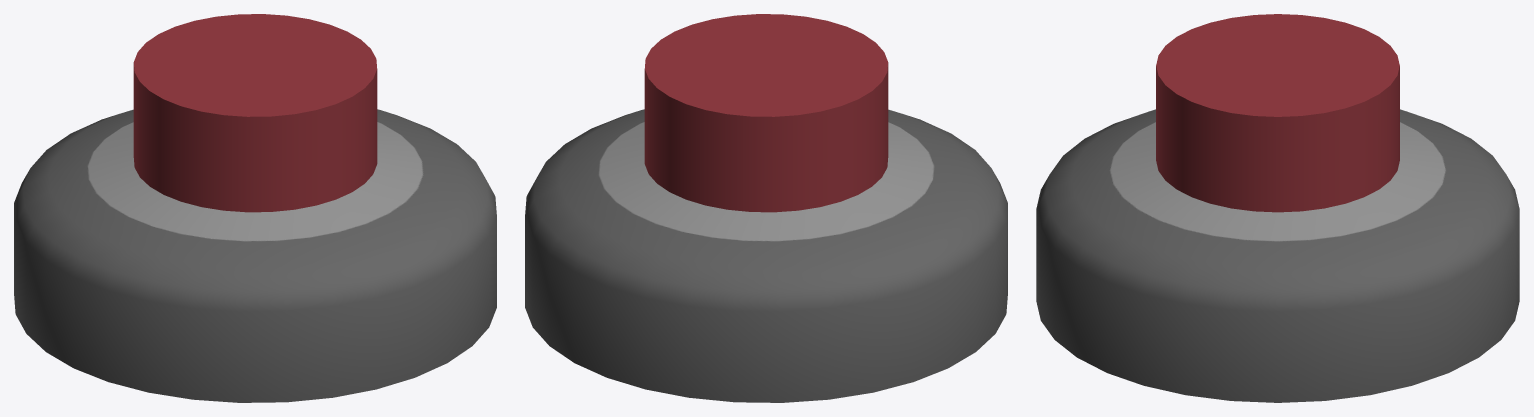
File: bouton-entier.fbx
3 renders of one model, left to right at view 1: azimuth 30°, elevation 25°; view 2: azimuth 150°, elevation 25°; view 3: azimuth 270°, elevation 25°, orthographic.
Parts seen in each view (by area): view 1: Cylinder.049, Cylinder.050; view 2: Cylinder.049, Cylinder.050; view 3: Cylinder.049, Cylinder.050.
Part boxes in pixels (<box>): Cylinder.049: <box>14,109,496,402</box>; Cylinder.050: <box>133,14,377,212</box>; Cylinder.049: <box>525,109,1007,402</box>; Cylinder.050: <box>644,14,888,212</box>; Cylinder.049: <box>1036,109,1519,402</box>; Cylinder.050: <box>1156,14,1399,212</box>.
Size of the model in its own units: 5.21 by 2.8 by 5.21.
